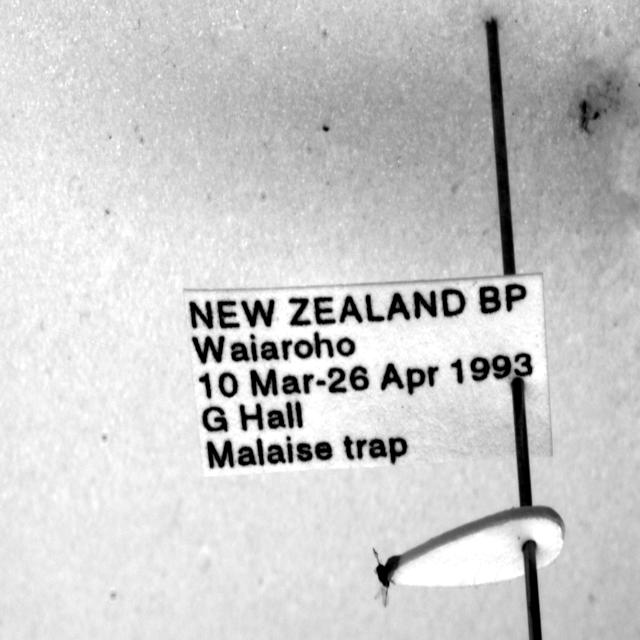typed_label: (184, 274, 551, 474)
